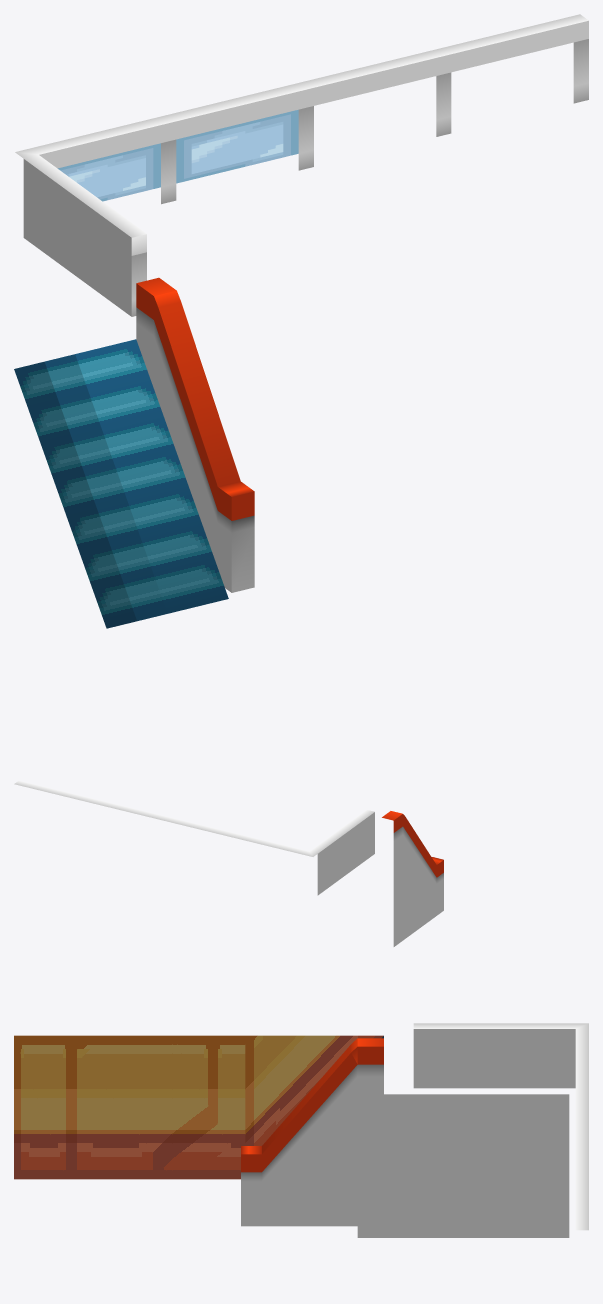
Rendered from hgss-piece-221-escalier-ouest.glb.
The picture shows the model from 3 angles, top to bottom: view 1: azimuth 30°, elevation 25°; view 2: azimuth 150°, elevation 25°; view 3: azimuth 270°, elevation 25°; orthographic projection. The views are drawn at different scales.
Size of the model in its own units: 11.5 by 4.3 by 10.88.
6 materials, 6 textured.
